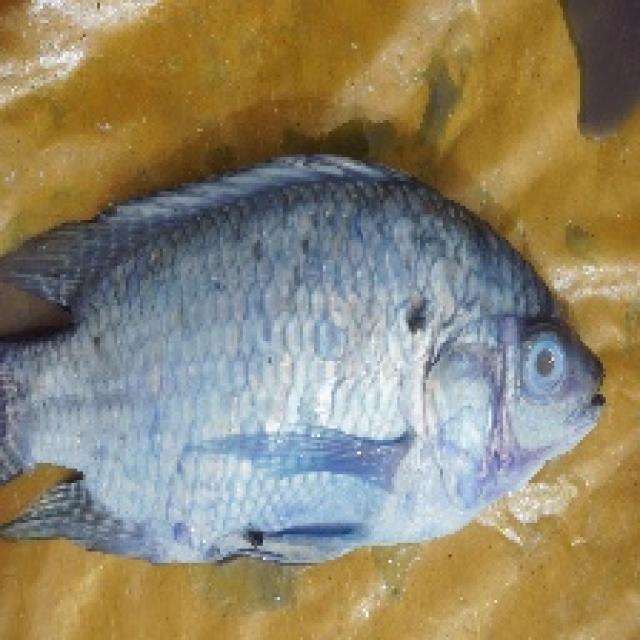Non-Fresh: (102, 193, 562, 533), (499, 320, 586, 406)
